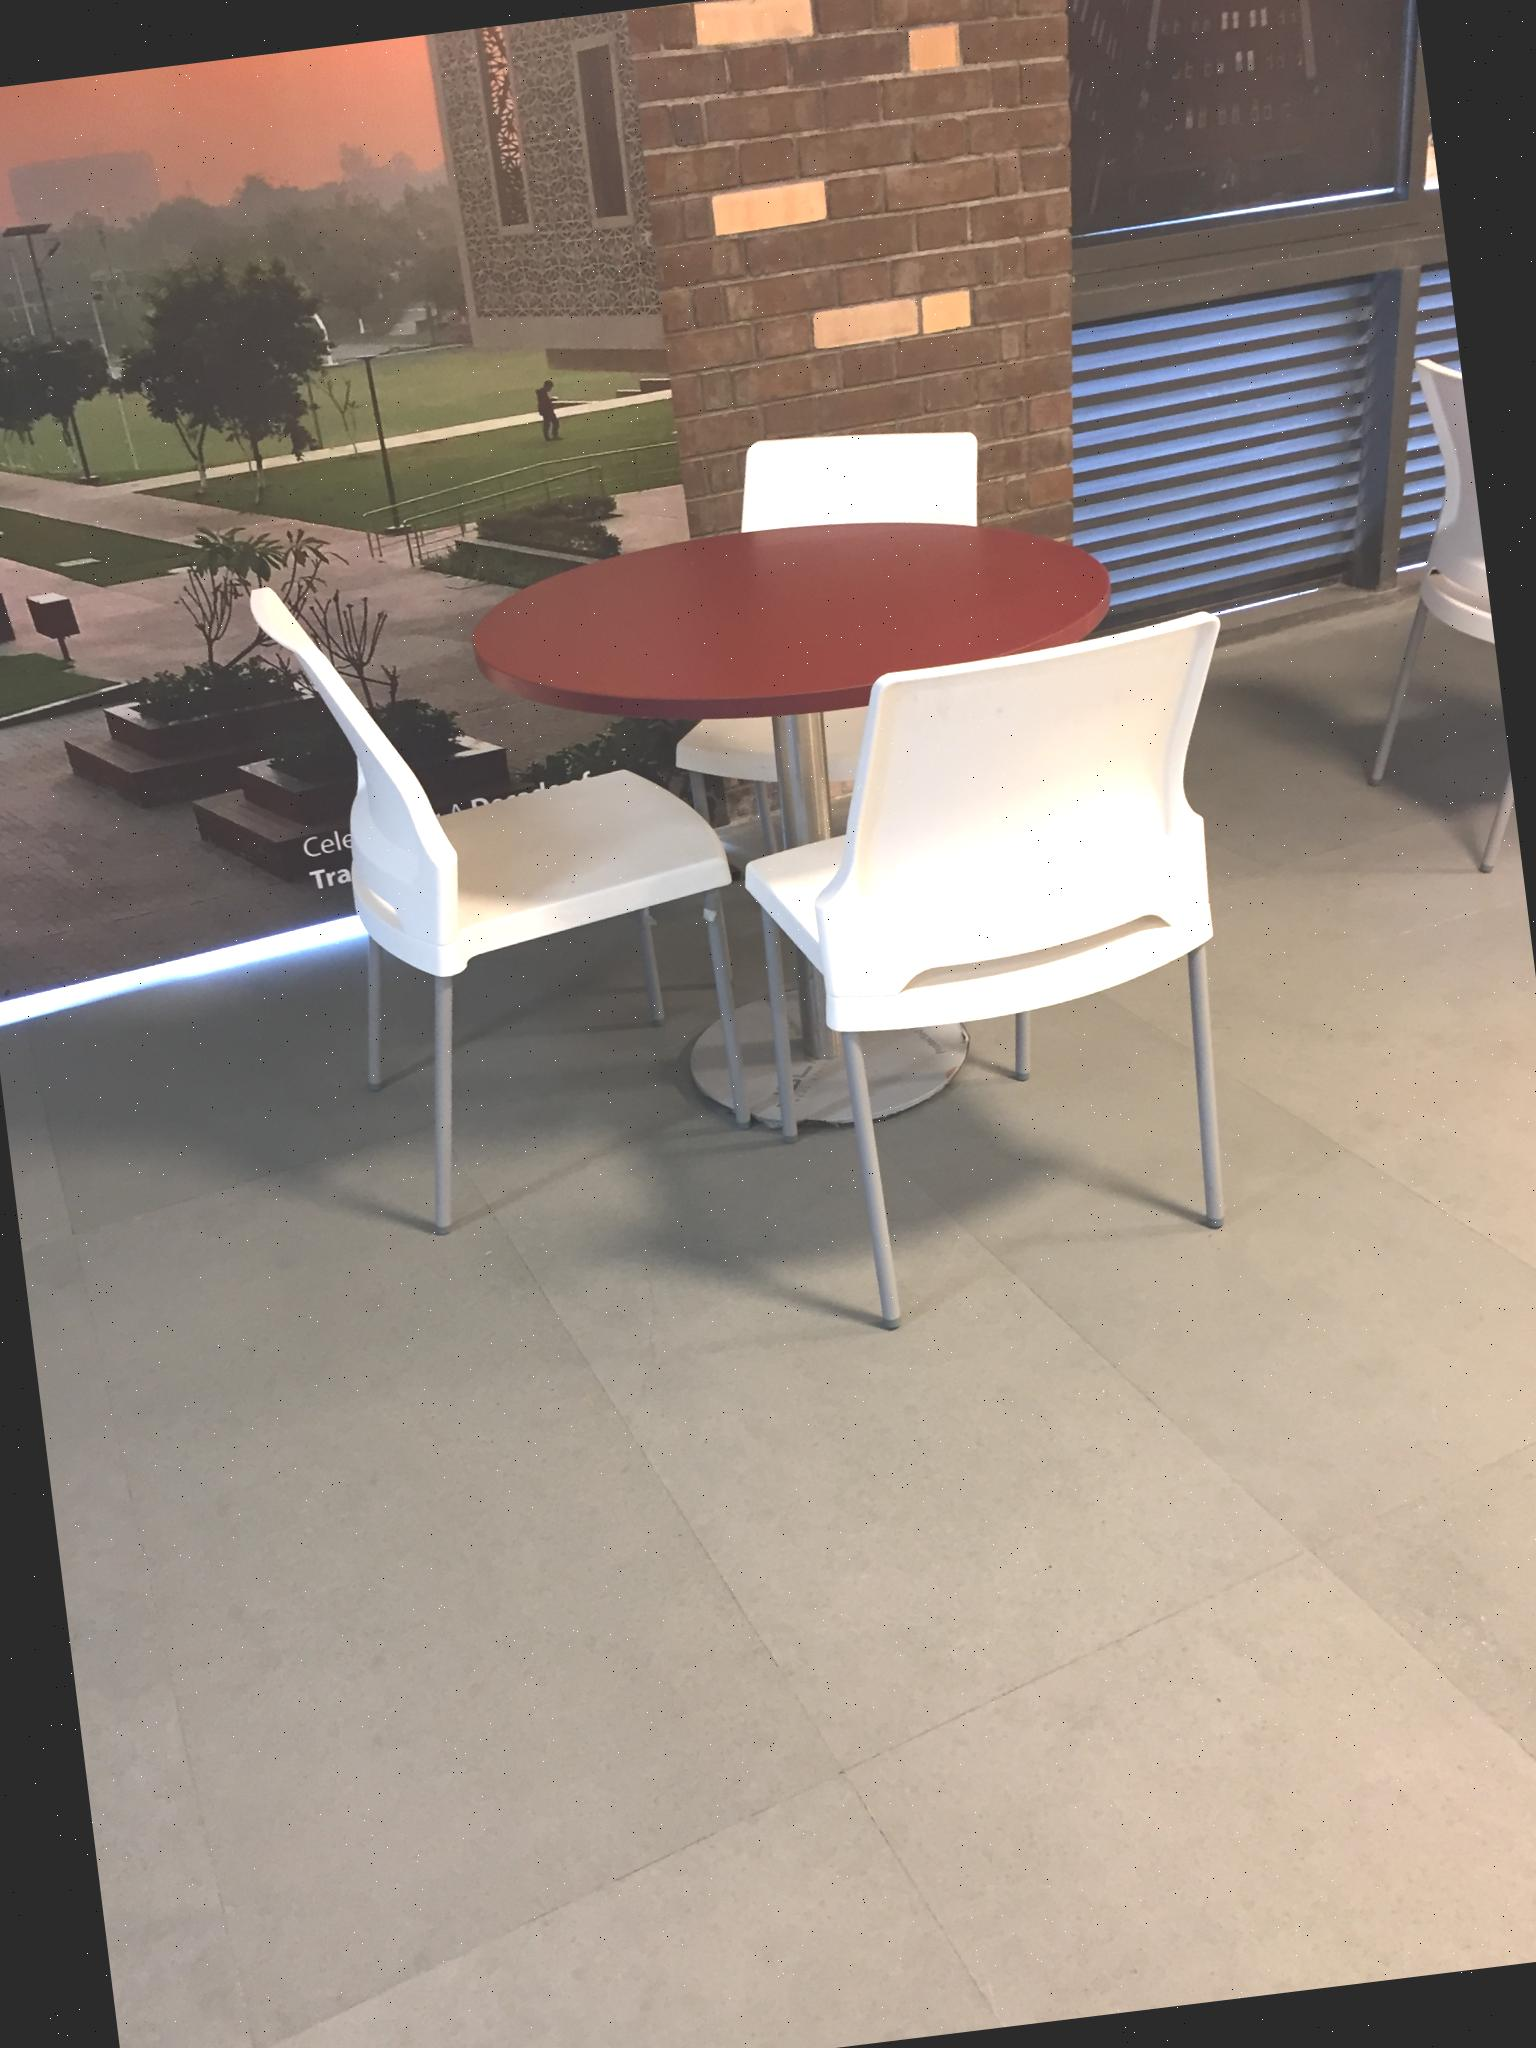chair: (713, 606, 1300, 1340), (245, 532, 771, 1247), (644, 403, 1066, 1035), (1317, 352, 1521, 885)
